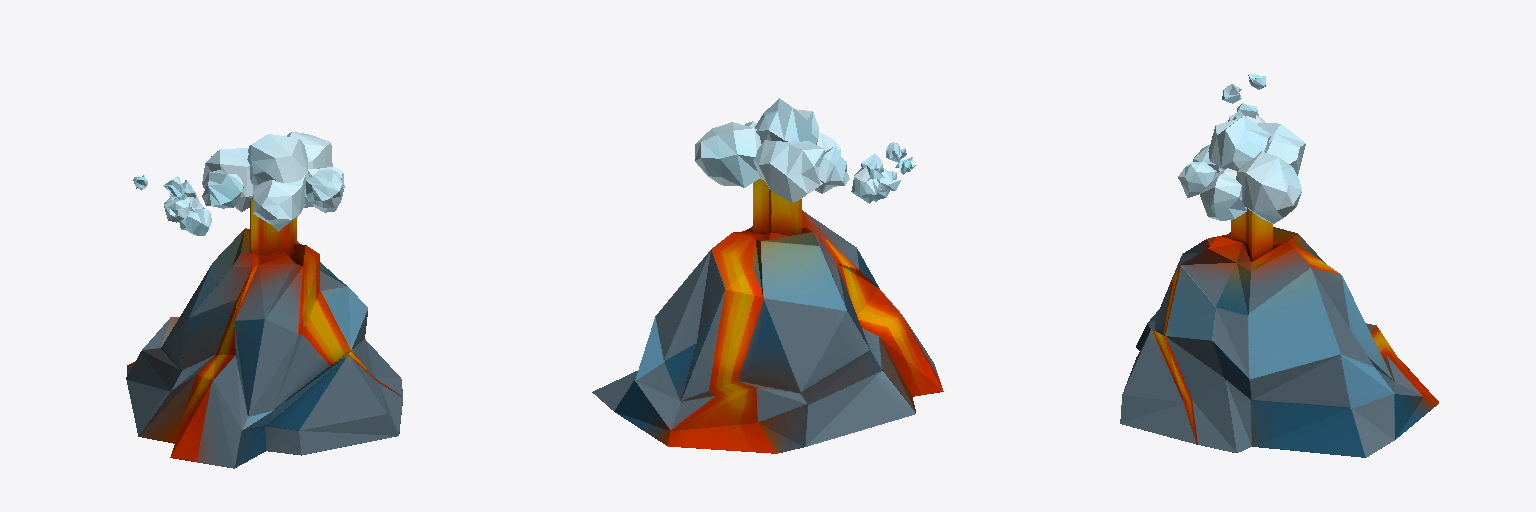
The picture shows the model from 3 angles: view 1: azimuth 30°, elevation 25°; view 2: azimuth 150°, elevation 25°; view 3: azimuth 270°, elevation 25°; orthographic projection.
Parts seen in each view (by area): view 1: Volcano_mesh; view 2: Volcano_mesh; view 3: Volcano_mesh.
Boxes of the visible parts, x1,y1,x2,y2 form: Volcano_mesh: [126, 132, 402, 468]; Volcano_mesh: [592, 98, 943, 453]; Volcano_mesh: [1120, 74, 1438, 457].
Size of the model in its own units: 14.9 by 14.66 by 15.5.
Materials: 1 (1 with a texture image).